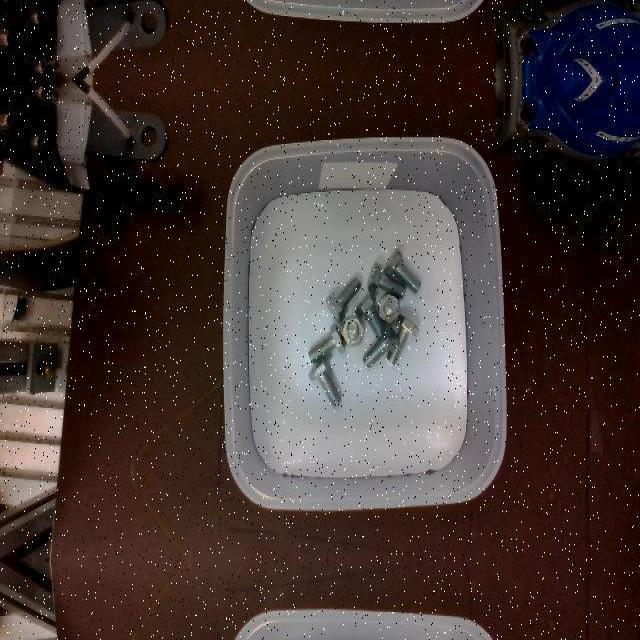screw: (383, 247, 421, 293), (325, 277, 361, 323), (309, 357, 342, 407), (363, 322, 400, 366), (367, 261, 406, 299), (307, 323, 345, 361), (341, 318, 364, 346), (379, 292, 399, 322)
